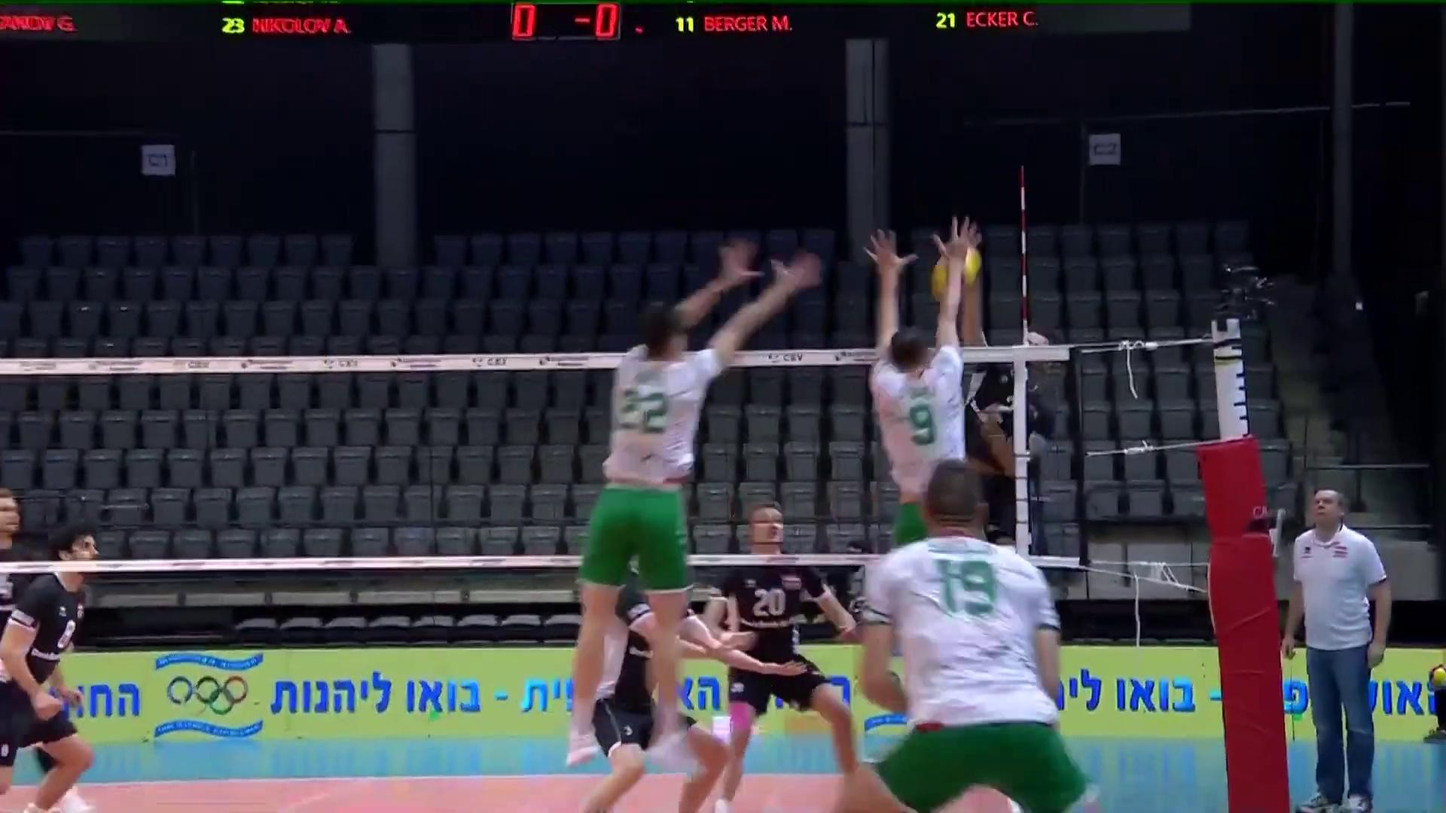ball: (940, 245, 985, 290)
